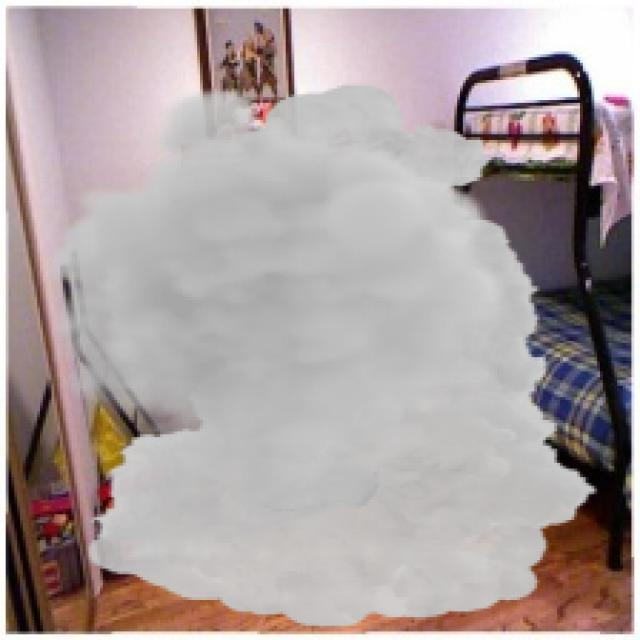smoke: (43, 83, 600, 628)
